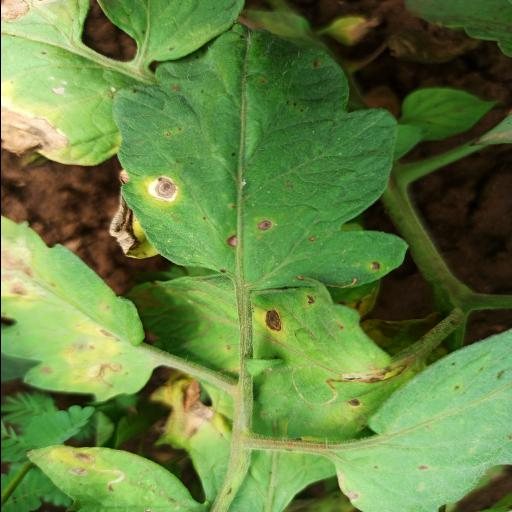disease_tomato: (116, 22, 408, 284)
